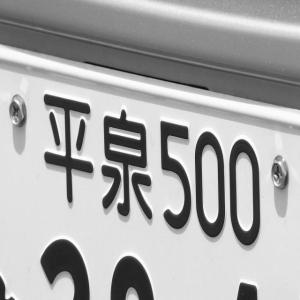Plate: (0, 44, 300, 300)
